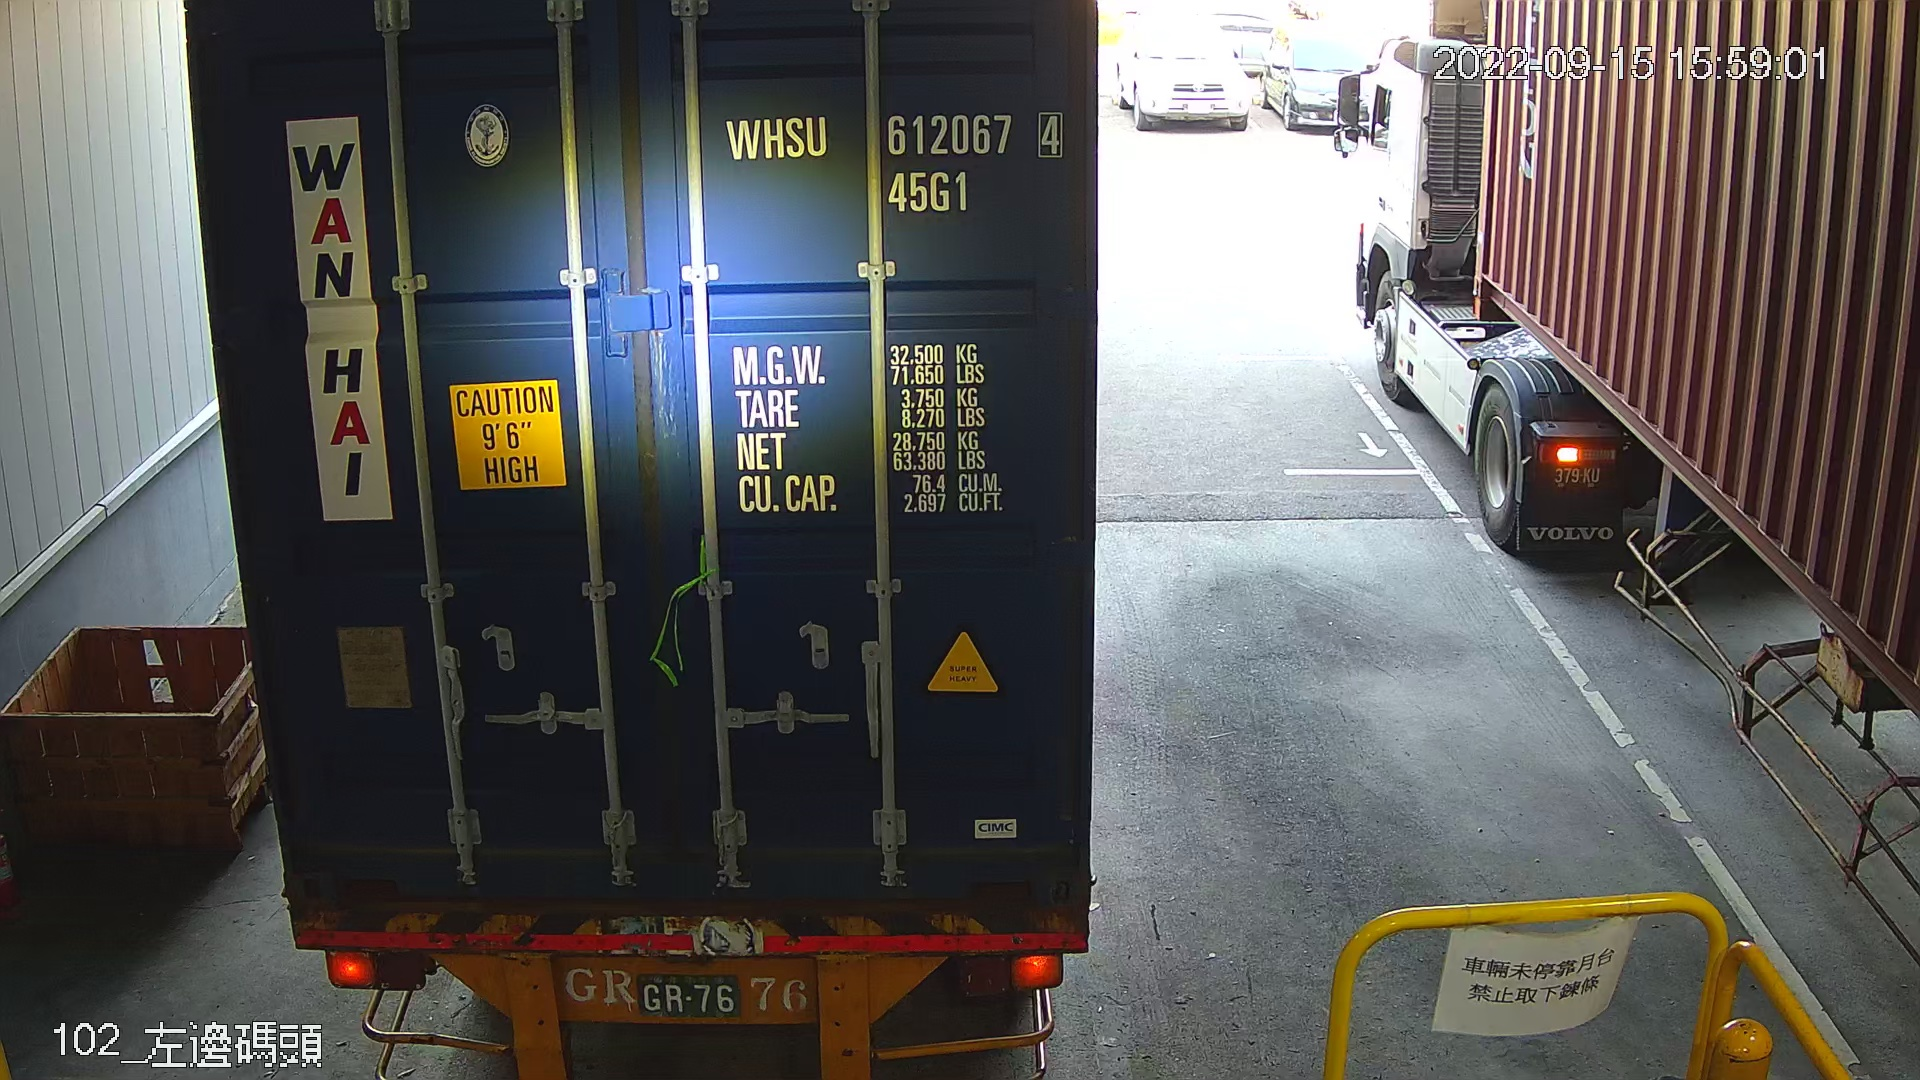container: (712, 98, 1076, 224)
